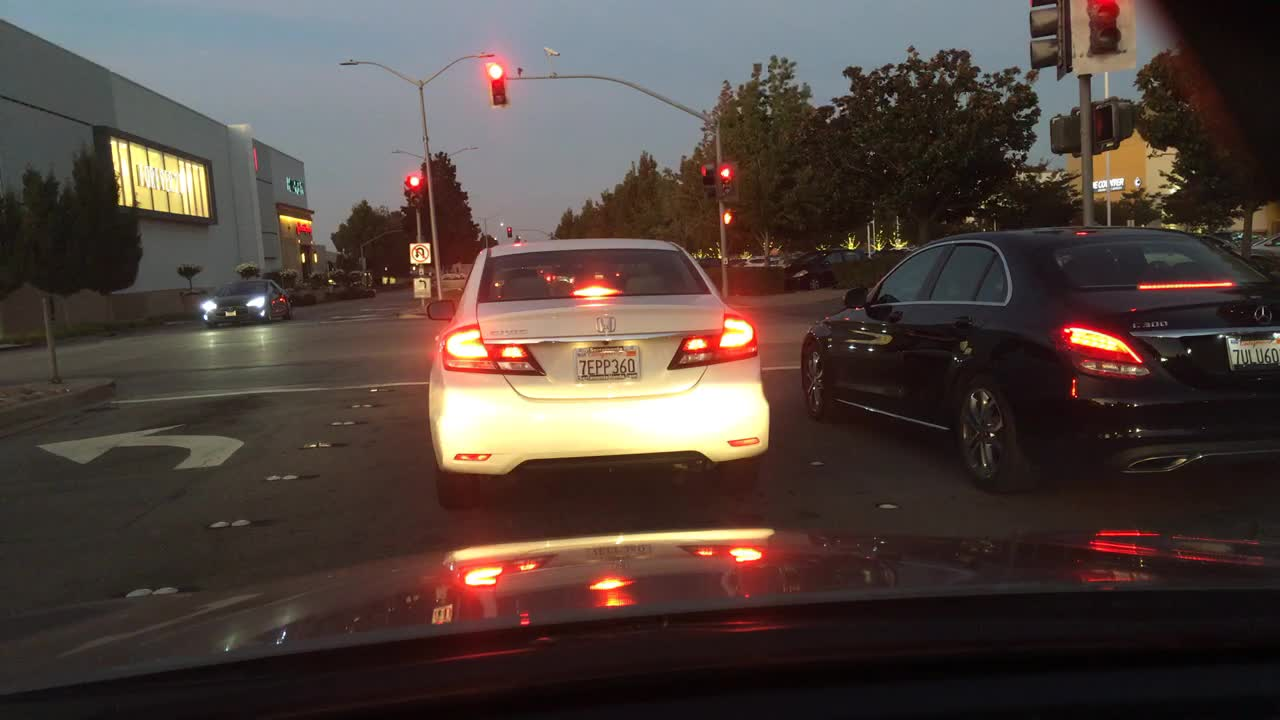car: (799, 224, 1279, 504), (426, 239, 771, 510), (200, 280, 292, 328), (777, 248, 872, 290), (1237, 230, 1279, 281), (1200, 230, 1265, 250), (437, 270, 472, 297), (694, 258, 725, 270), (722, 255, 745, 269), (745, 254, 768, 268)
traffic light: (1030, 0, 1068, 79), (1087, 1, 1122, 56), (1098, 101, 1133, 143), (1051, 118, 1078, 156), (489, 61, 506, 106), (700, 164, 717, 190), (408, 172, 424, 192), (719, 165, 734, 182), (722, 211, 735, 224), (506, 225, 514, 239)
traffic sign: (408, 242, 430, 265), (413, 279, 430, 298)
